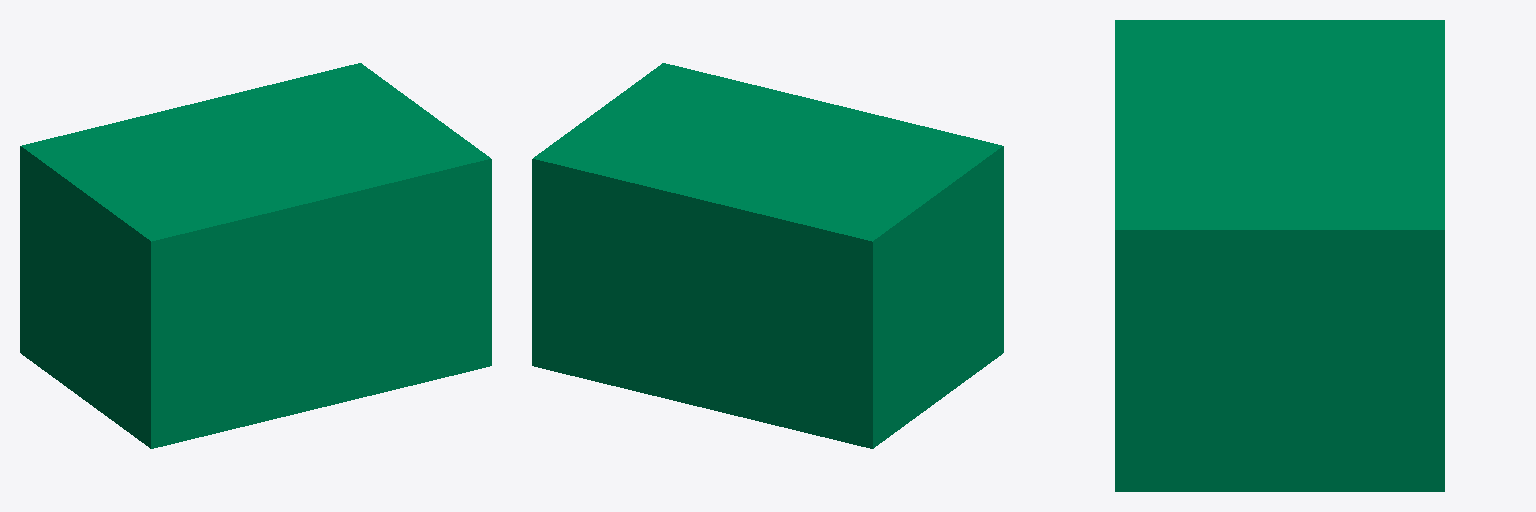
robot.urdf — random_box:
<?xml version='1.0' encoding='UTF-8'?>
<robot name="random_box">
  <link name="box">

    <inertial>
      <mass value="0.3"/>
      <origin xyz="0 0 0" rpy="0 0 0"/>
      <inertia ixx="0.1" ixy="0.1" ixz="0.1" iyy="0.1" iyz="0.1" izz="0.1"/>
    </inertial>

    <visual>
      <geometry>
        <box size="0.6 0.4 0.35"/>
      </geometry>
      <material name="color">
        <color rgba="0 0.6 0.4 1"/>
      </material>
    </visual>
    <collision>
      <geometry>
        <box size="0.6 0.4 0.35"/>
      </geometry>

      <surface>
        <friction>
          <ode>
            <mu>100000000.0</mu>
            <mu2>100000000.0</mu2>
          </ode>
        </friction>
        <contact>
          <ode>
            <min_depth>0.003</min_depth>
          </ode>
        </contact>
      </surface>

    </collision>

  </link>
</robot>

--- Facts derived from the render (not from the file) ---
3 views of the same robot in one strip: view 1: azimuth 30°, elevation 25°; view 2: azimuth 150°, elevation 25°; view 3: azimuth 270°, elevation 25° (orthographic).
Robot: random_box — 1 links, 0 joints (none); root link box; default pose: every joint at zero.
Visible links, largest first — view 1: box; view 2: box; view 3: box.
Link boxes in pixels (x1,y1,x2,y2): box: (20, 63, 491, 448); box: (532, 63, 1003, 448); box: (1115, 20, 1444, 491).
Bounding box of the posed robot: 0.6 × 0.4 × 0.35 m (x, y, z).
Geometry: primitives only (box / cylinder / sphere), no mesh files.